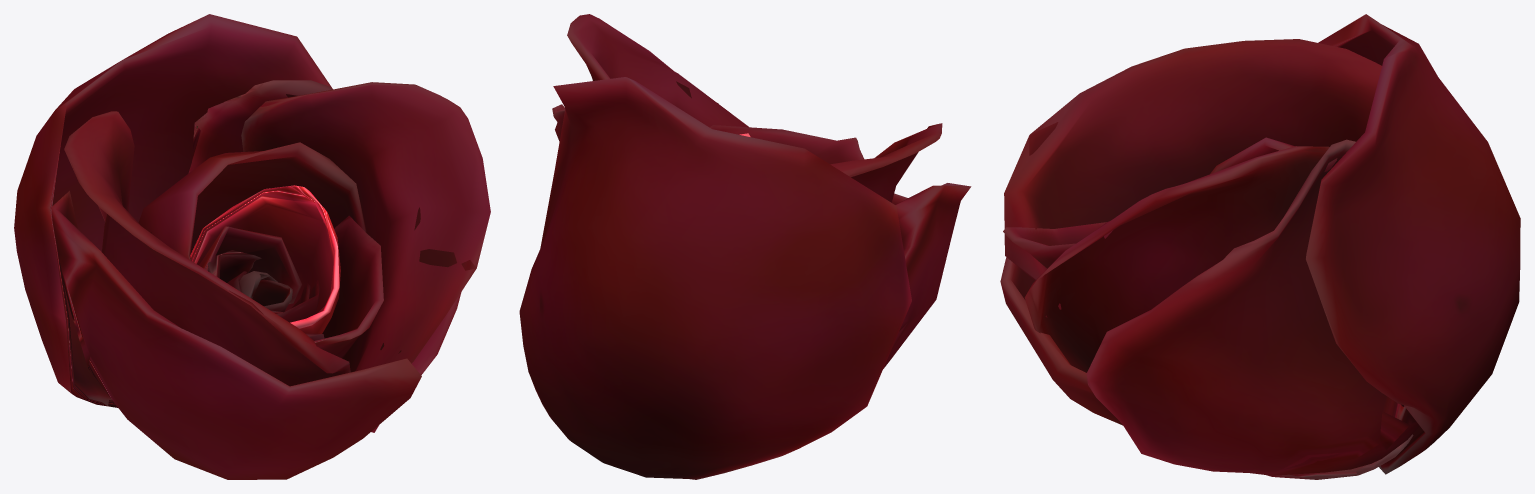
The picture shows the model from 3 angles, left to right: view 1: azimuth 30°, elevation 25°; view 2: azimuth 150°, elevation 25°; view 3: azimuth 270°, elevation 25°; orthographic projection. The views are drawn at different scales.
Parts seen in each view (by area): view 1: PM3D_Cube3D_22.009; view 2: PM3D_Cube3D_22.009; view 3: PM3D_Cube3D_22.009.
Boxes of the visible parts, box(x1,y1,x2,y2) form: PM3D_Cube3D_22.009: box(14, 14, 490, 479); PM3D_Cube3D_22.009: box(519, 14, 971, 479); PM3D_Cube3D_22.009: box(1000, 14, 1520, 479).
Size of the model in its own units: 0.9934 by 1.03 by 1.14.
1 material, 1 textured.
